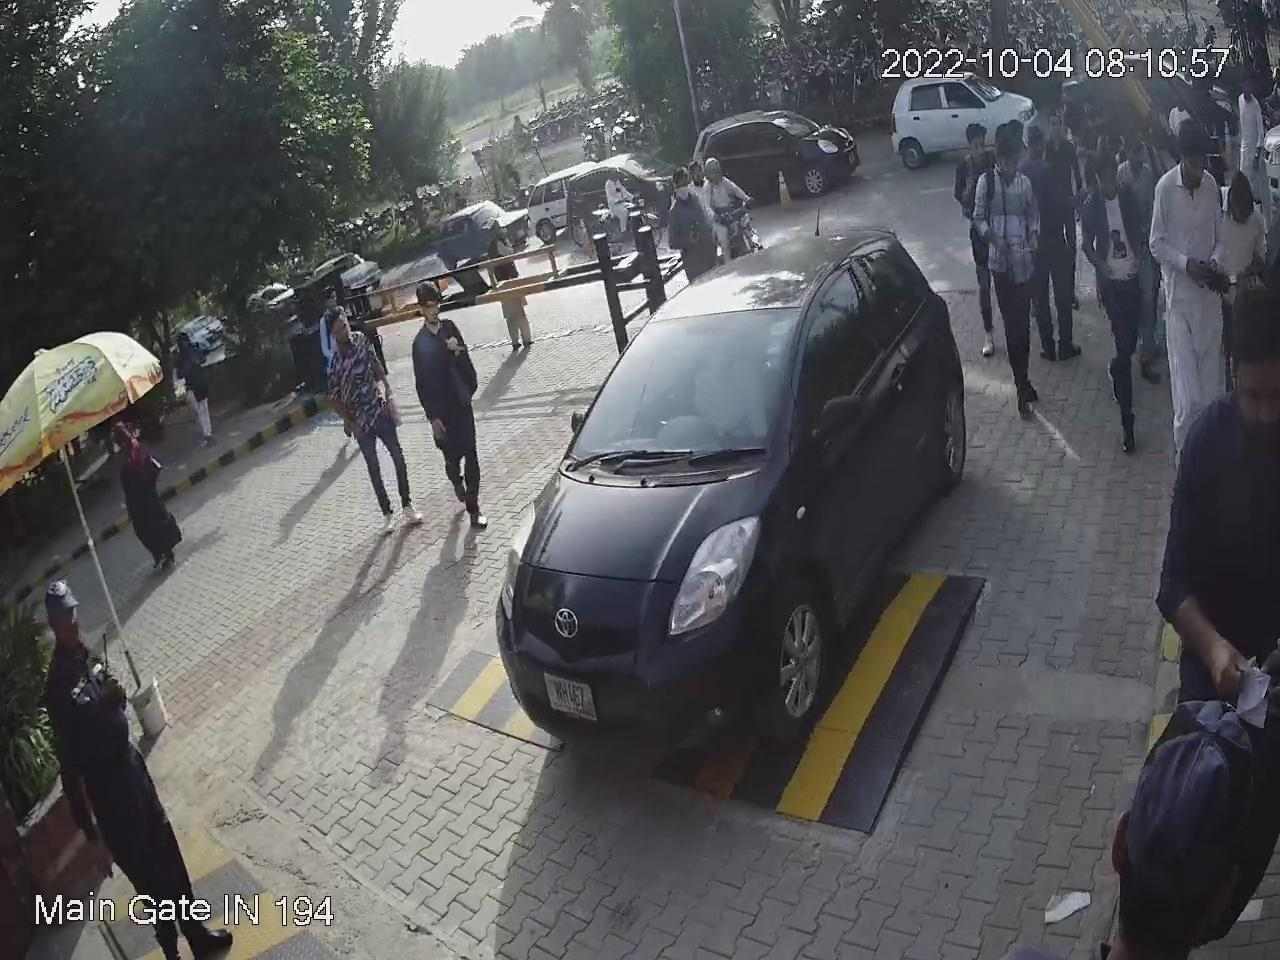windshield: (563, 308, 805, 487)
